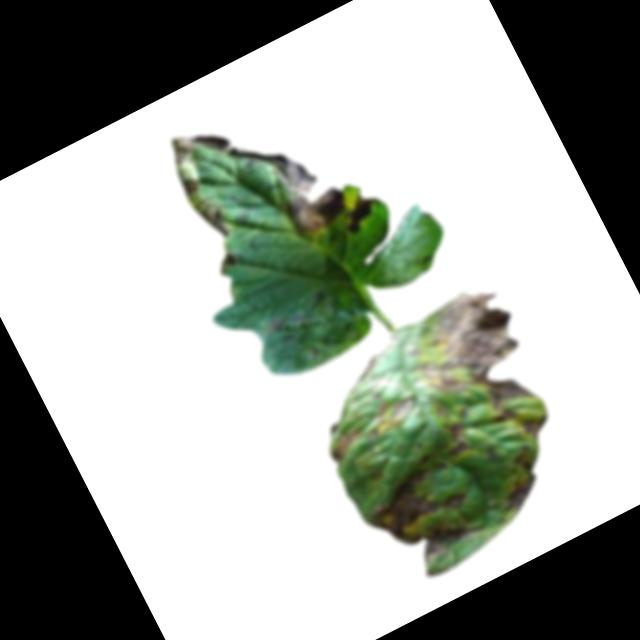Early_blight: (393, 277, 547, 439), (353, 445, 484, 578), (236, 110, 353, 246), (159, 114, 268, 245), (486, 448, 554, 517), (355, 387, 420, 442), (336, 188, 387, 239), (321, 424, 370, 468), (265, 307, 313, 348), (516, 410, 553, 442), (444, 438, 473, 462)
